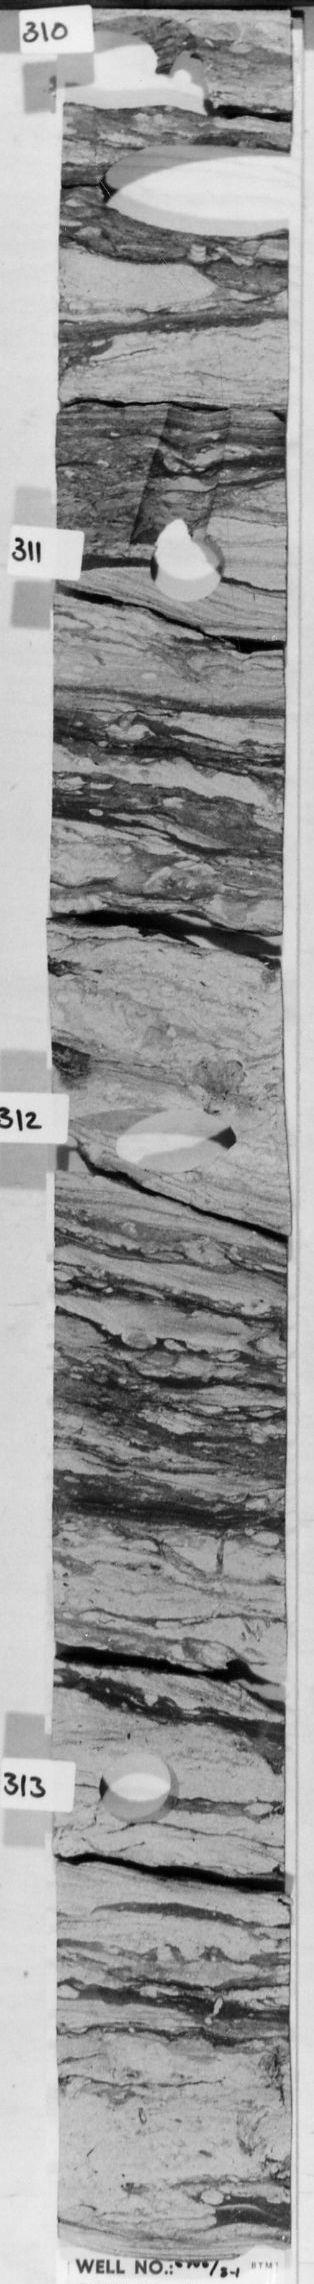hplug: (93, 1104, 246, 1177), (94, 1747, 183, 1831), (145, 532, 231, 605), (94, 13, 172, 74)
scal: (92, 131, 288, 248)
vplug: (122, 399, 238, 548), (158, 34, 221, 121)
